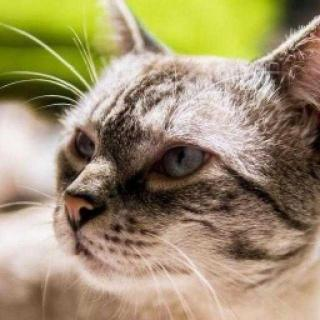cat: (43, 8, 320, 282)
nose: (50, 180, 99, 230)
